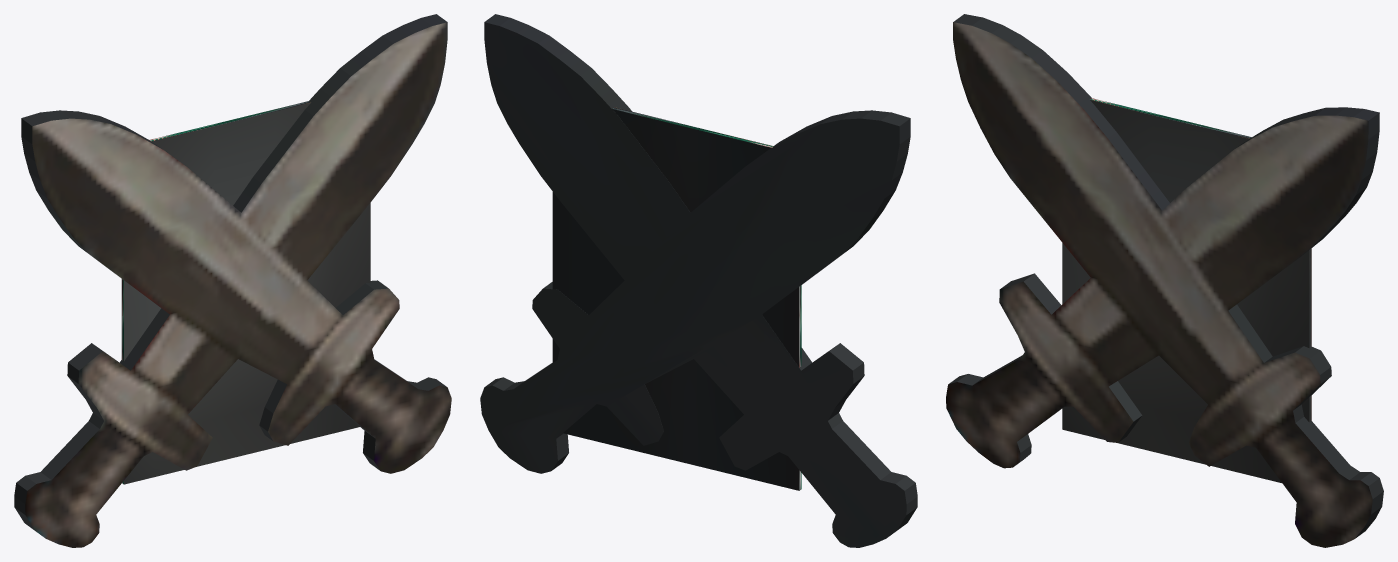
File: Attack.glb
The picture shows the model from 3 angles, left to right: view 1: azimuth 30°, elevation 25°; view 2: azimuth 150°, elevation 25°; view 3: azimuth 330°, elevation 25°; orthographic projection.
Parts seen in each view (by area): view 1: Cube.001; view 2: Cube.001; view 3: Cube.001.
Part boxes in pixels (bbox=[...]): Cube.001: bbox=[14, 14, 451, 547]; Cube.001: bbox=[480, 14, 917, 547]; Cube.001: bbox=[946, 14, 1383, 547].
Bounding box in the file's own units: 1.76 × 1.73 × 0.08.
Materials: 2 (2 with a texture image).
